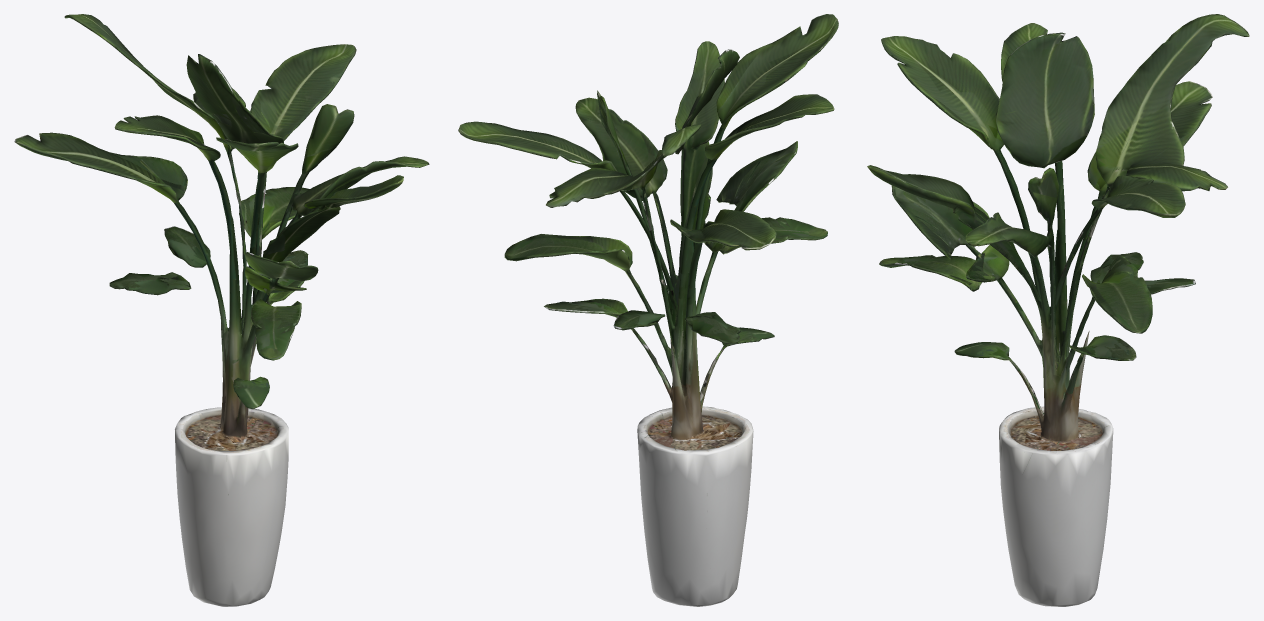
File: bitki1.fbx
3 renders of one model, left to right at view 1: azimuth 30°, elevation 25°; view 2: azimuth 150°, elevation 25°; view 3: azimuth 270°, elevation 25°, orthographic.
Parts seen in each view (by area): view 1: Mesh_0; view 2: Mesh_0; view 3: Mesh_0.
Part boxes in pixels (<box>): Mesh_0: <box>14,14,429,606</box>; Mesh_0: <box>458,14,838,606</box>; Mesh_0: <box>867,14,1249,606</box>.
Bounding box in the file's own units: 120 × 191 × 122.
1 material, 1 textured.
